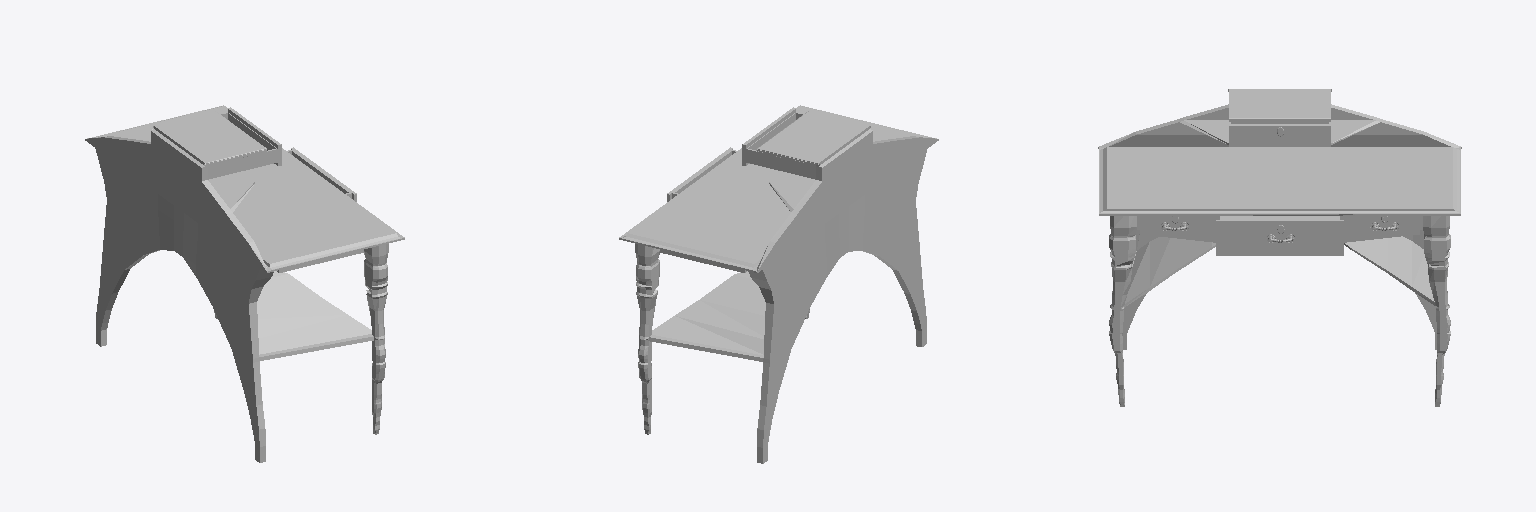
File: Escrivaninha.obj
3 renders of one model, left to right at view 1: azimuth 30°, elevation 25°; view 2: azimuth 150°, elevation 25°; view 3: azimuth 270°, elevation 25°, orthographic.
Parts seen in each view (by area): view 1: group97; view 2: group97; view 3: group97.
Boxes of the visible parts, <box> form: group97: <box>85,105,404,462</box>; group97: <box>619,105,938,463</box>; group97: <box>1098,89,1461,406</box>.
Bounding box in the file's own units: 1.79 × 2.78 × 3.52.